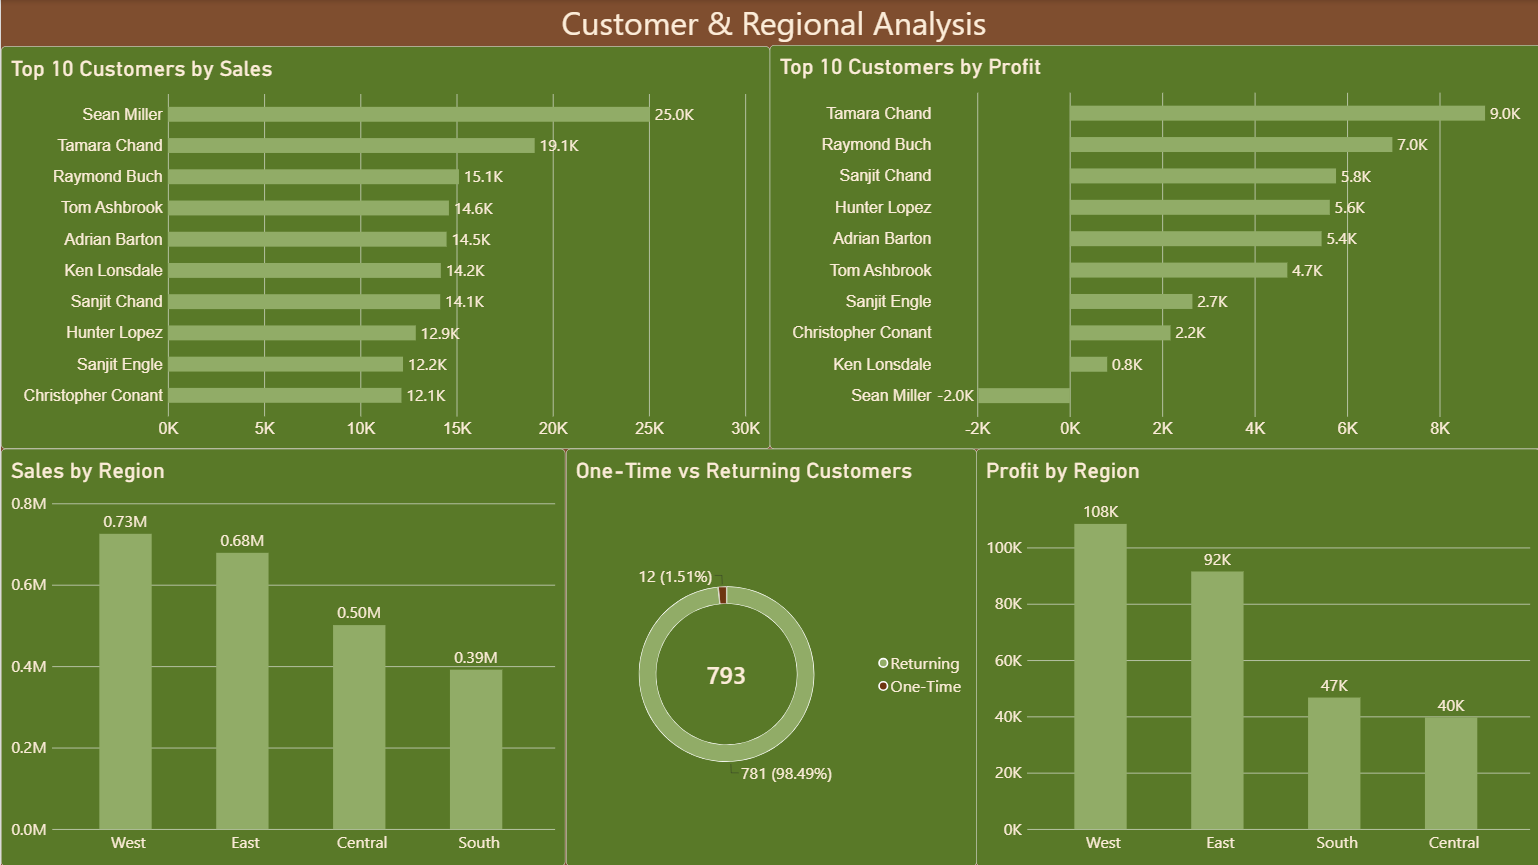

This screenshot's page, from the dashboard's own definition file:
{"tool":"powerbi","page":{"name":"Customer & Regional Analysis","canvas":[1920,1080],"ordinal":2},"visuals":[{"type":"textbox","box":[10,0,1910,280],"z":0}]}

Visuals, with their boxes in screenshot pixels (x1, y1, x2, y2), scaled from the page's 1920x1080 canvas onto the 1538x865 screenshot:
textbox: select_region(8, 0, 1537, 224)
